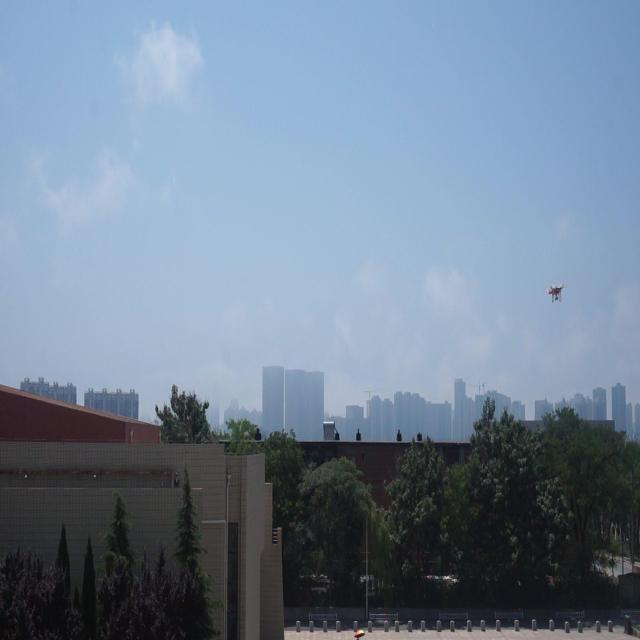drone: (544, 279, 568, 308)
